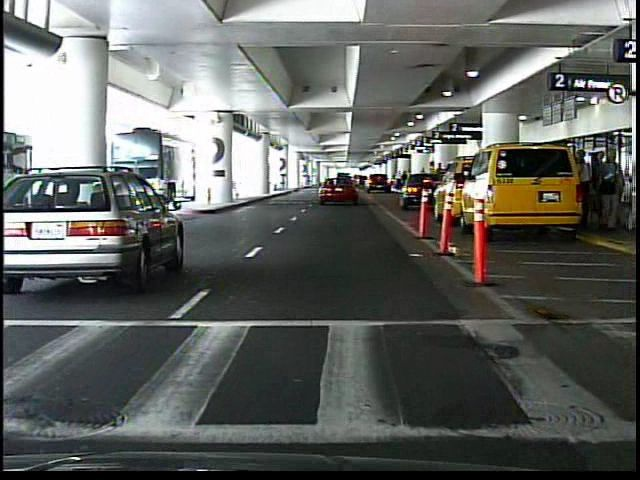person: (434, 160, 445, 174)
